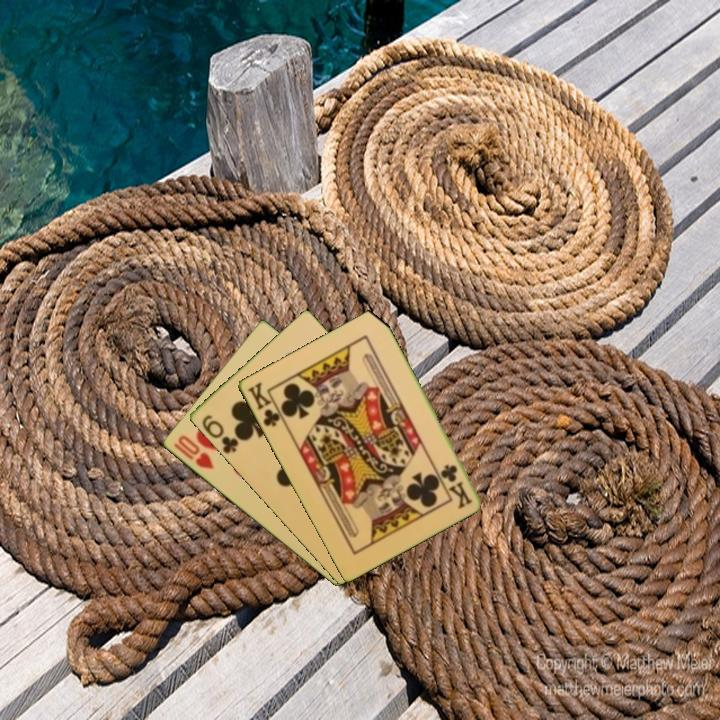10h: (169, 432, 216, 472)
6c: (198, 411, 241, 456)
Kc: (244, 378, 287, 430), (438, 461, 475, 511)
